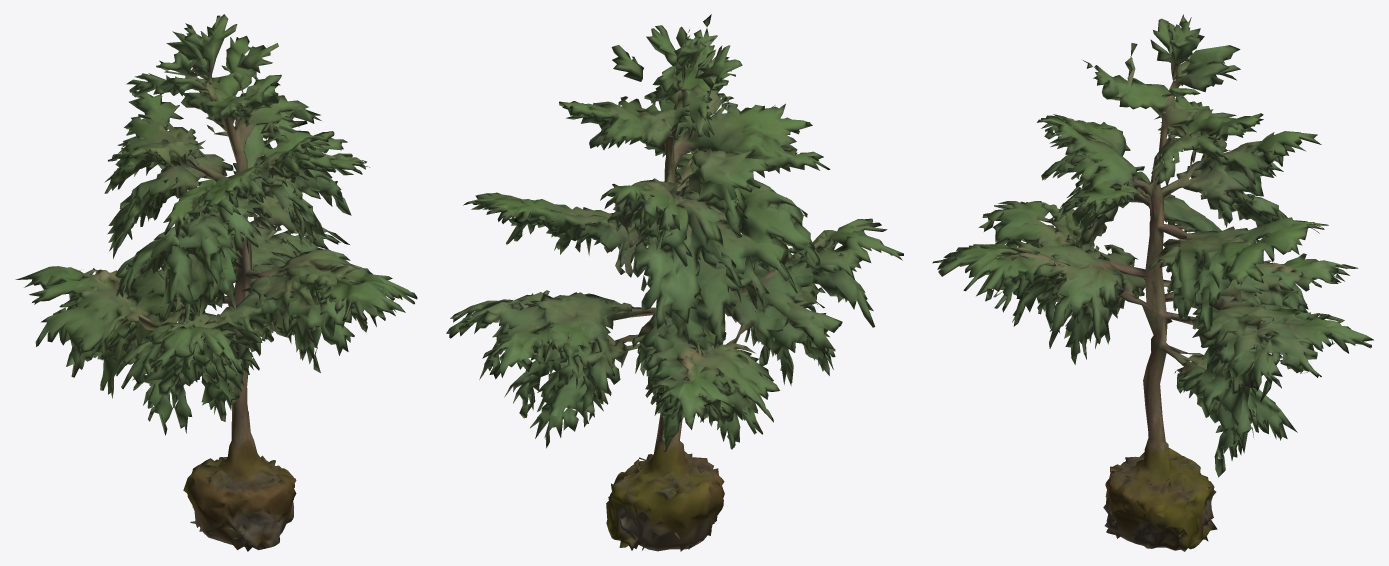
The model's file is tree_cedar_sapling_natural.glb.
3 renders of one model, left to right at view 1: azimuth 30°, elevation 25°; view 2: azimuth 150°, elevation 25°; view 3: azimuth 270°, elevation 25°, orthographic. The views are drawn at different scales.
Bounding box in the file's own units: 1.32 × 2 × 1.6.
1 material, 1 textured.
